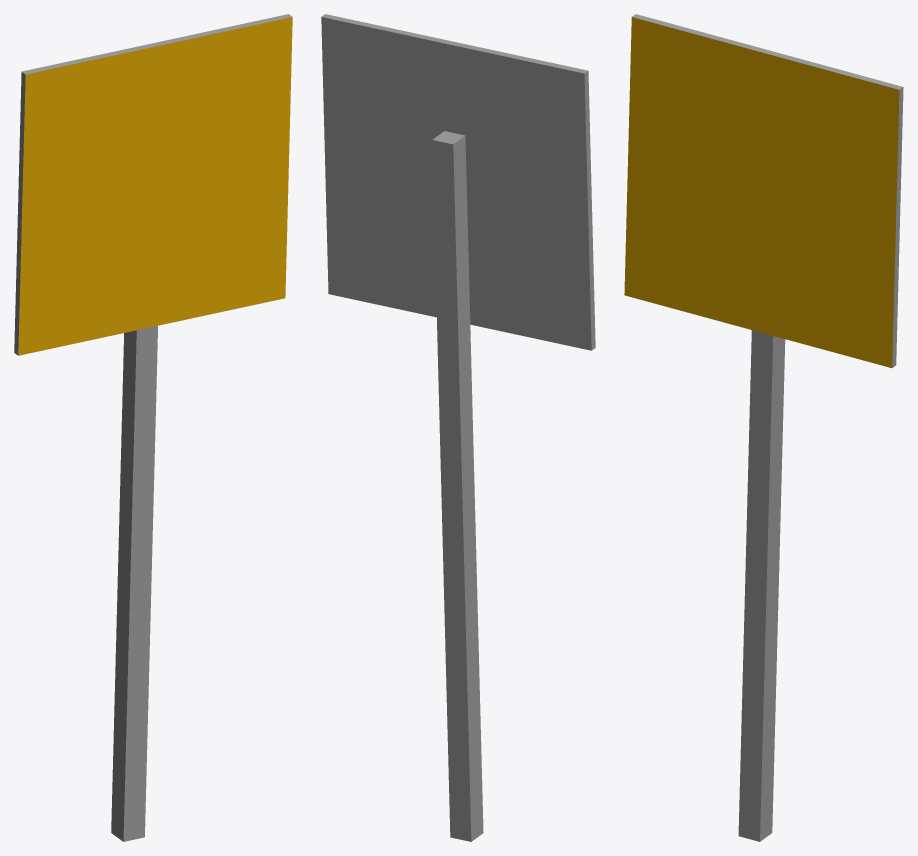
The model's file is sign01.fbx.
3 views of the same model, side by side, from view 1: azimuth 30°, elevation 25°; view 2: azimuth 150°, elevation 25°; view 3: azimuth 330°, elevation 25° (orthographic).
Visible parts, largest first — view 1: sign01; view 2: sign01; view 3: sign01.
Boxes of the visible parts, x1,y1,x2,y2 form: sign01: (14, 14, 292, 841); sign01: (321, 14, 595, 841); sign01: (624, 14, 903, 841).
Bounding box in the file's own units: 30.81 × 85.41 × 3.24.
